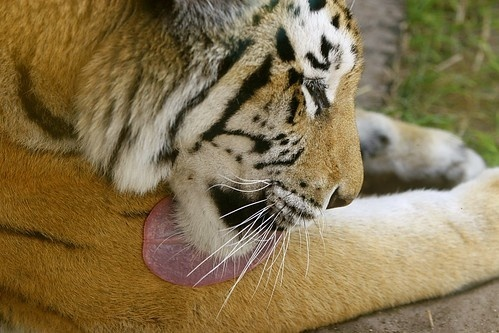tigre: (4, 1, 467, 331)
